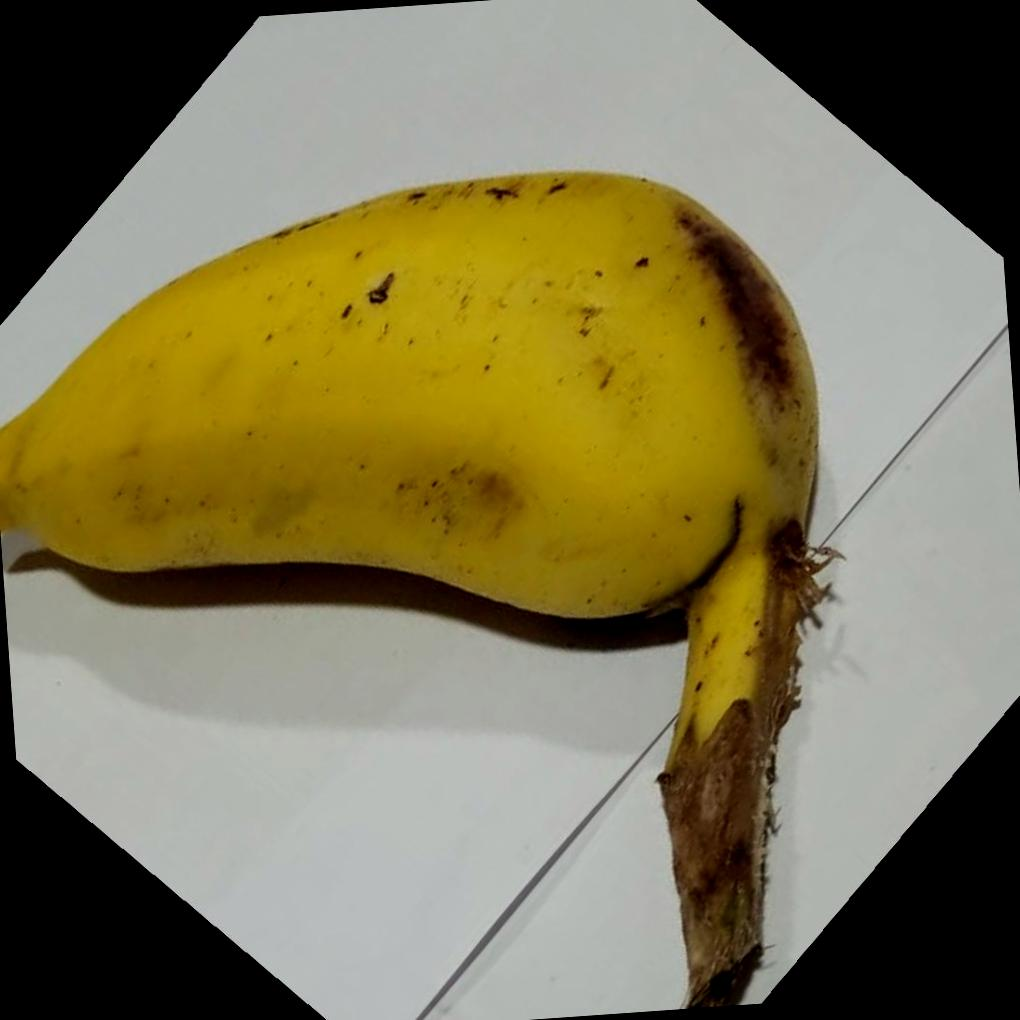Banana Ripe: (0, 136, 924, 1020)
